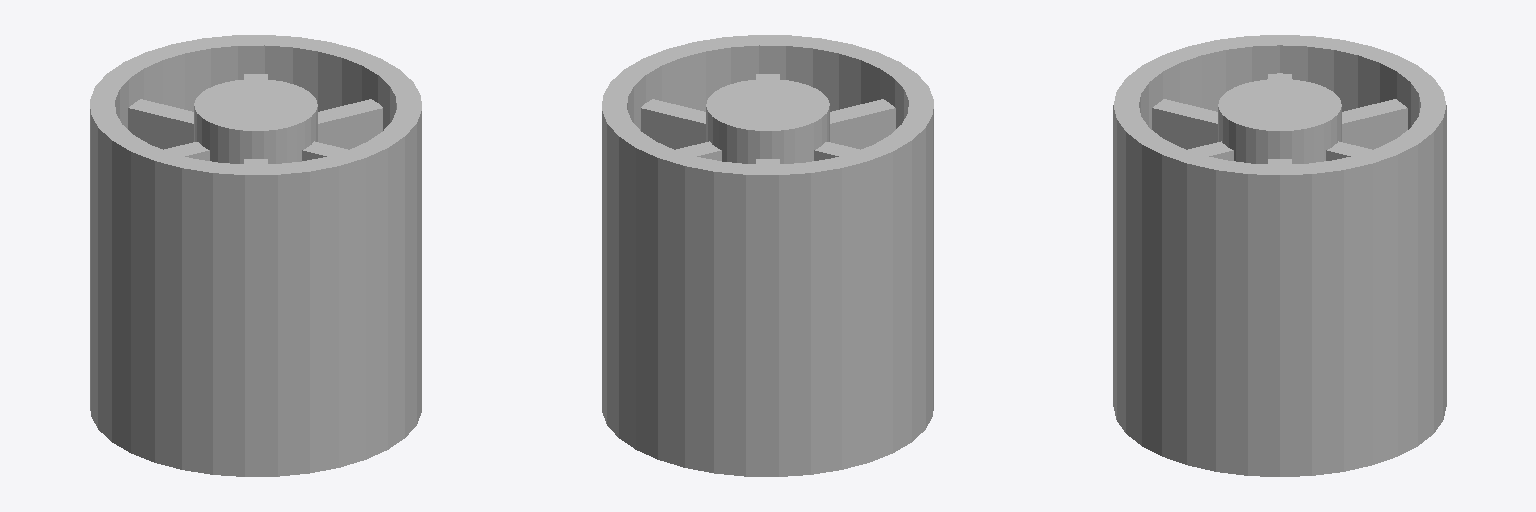
The model's file is gear-body.obj.
3 renders of one model, left to right at view 1: azimuth 30°, elevation 25°; view 2: azimuth 150°, elevation 25°; view 3: azimuth 270°, elevation 25°, orthographic.
Visible parts, largest first — view 1: Cube.003_Cube.002; view 2: Cube.003_Cube.002; view 3: Cube.003_Cube.002.
Boxes of the visible parts, box(x1,y1,x2,y2) form: Cube.003_Cube.002: box(90, 35, 421, 476); Cube.003_Cube.002: box(602, 35, 933, 476); Cube.003_Cube.002: box(1113, 35, 1446, 476).
Bounding box in the file's own units: 1 × 1 × 1.